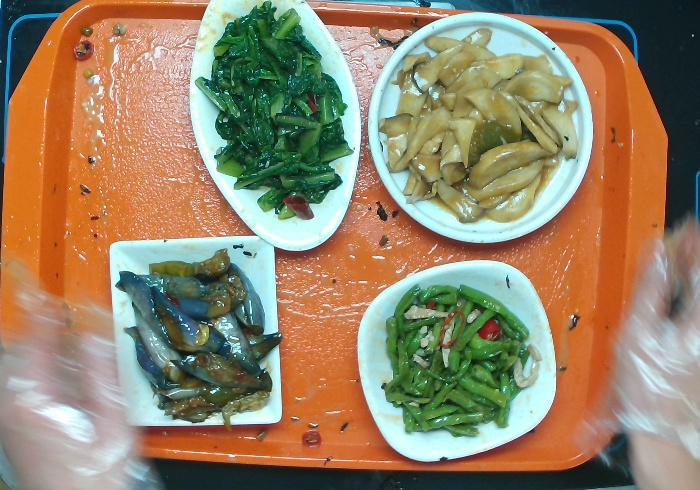HZYJPL-Si_Fang_Die: (106, 233, 282, 430)
HZYJPL-Si_Fang_Yuan_Die: (355, 259, 559, 462)
HZYJPL-Xiao_Yu_Die: (186, 1, 362, 255)
HZYJPL-Xiao_Yuan_Die: (364, 9, 595, 247)
